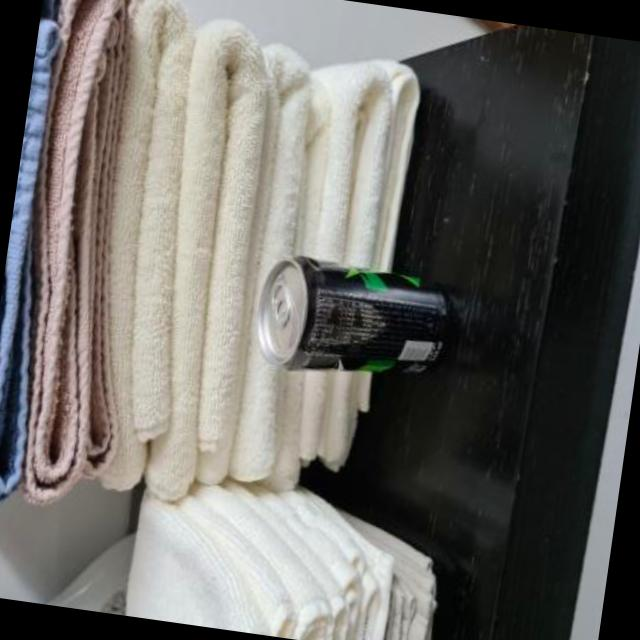metal: (253, 259, 445, 374)
